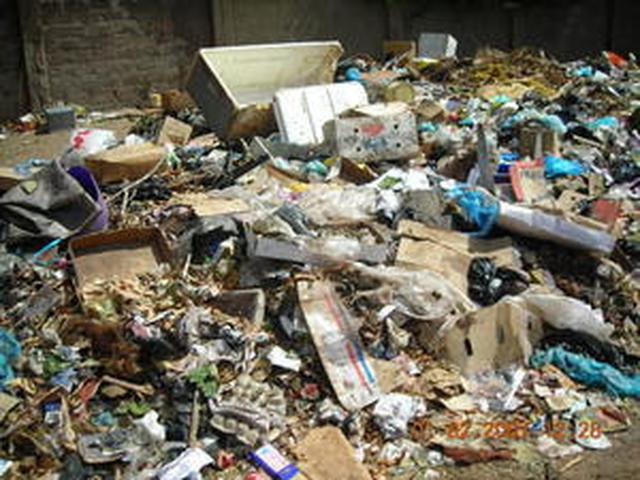garbage: (21, 164, 612, 405), (375, 53, 640, 168)
